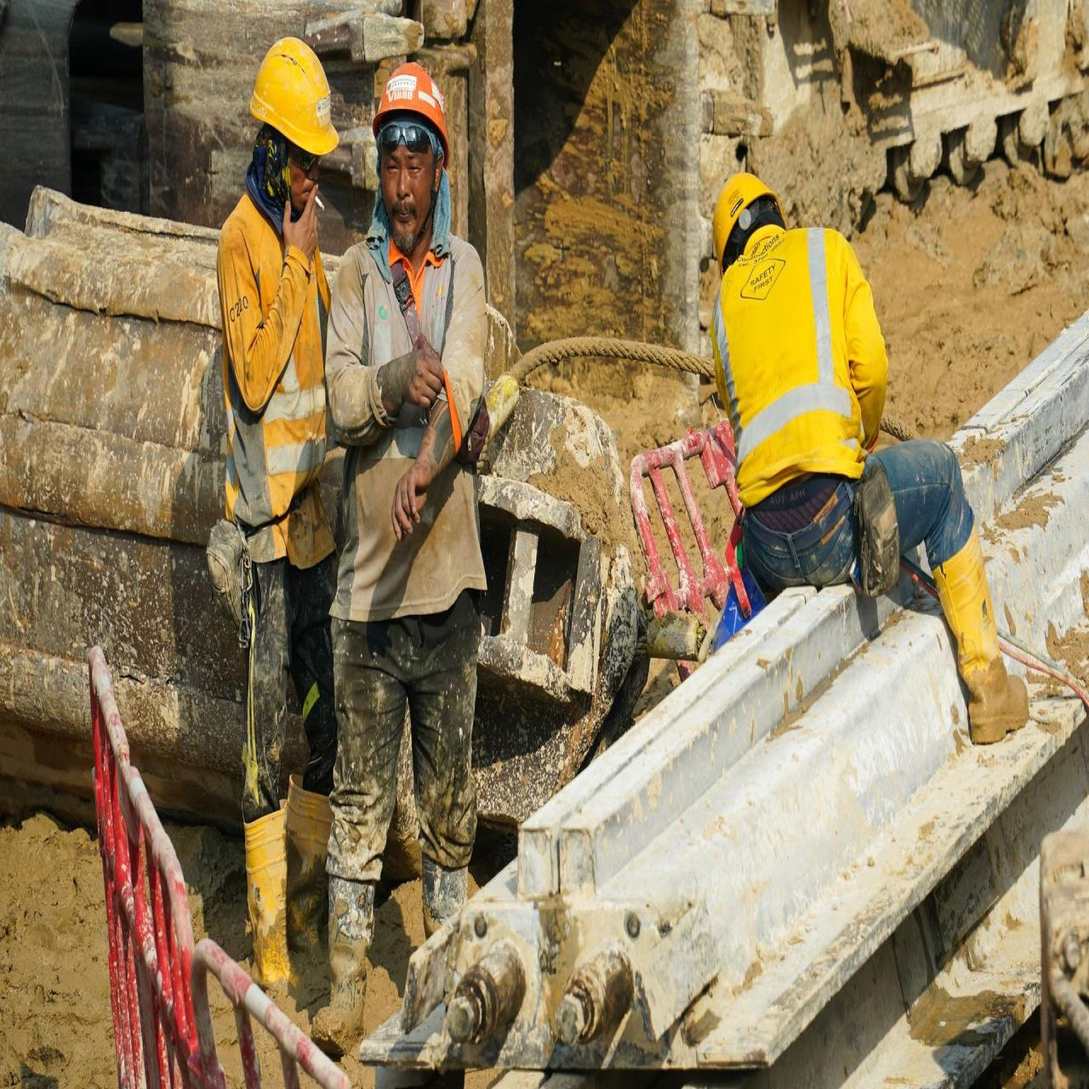NO_Safety_Vest: (331, 238, 485, 592), (711, 234, 879, 510), (213, 196, 341, 544)
Person: (695, 164, 1047, 764), (318, 22, 510, 1073), (197, 4, 374, 1029)
